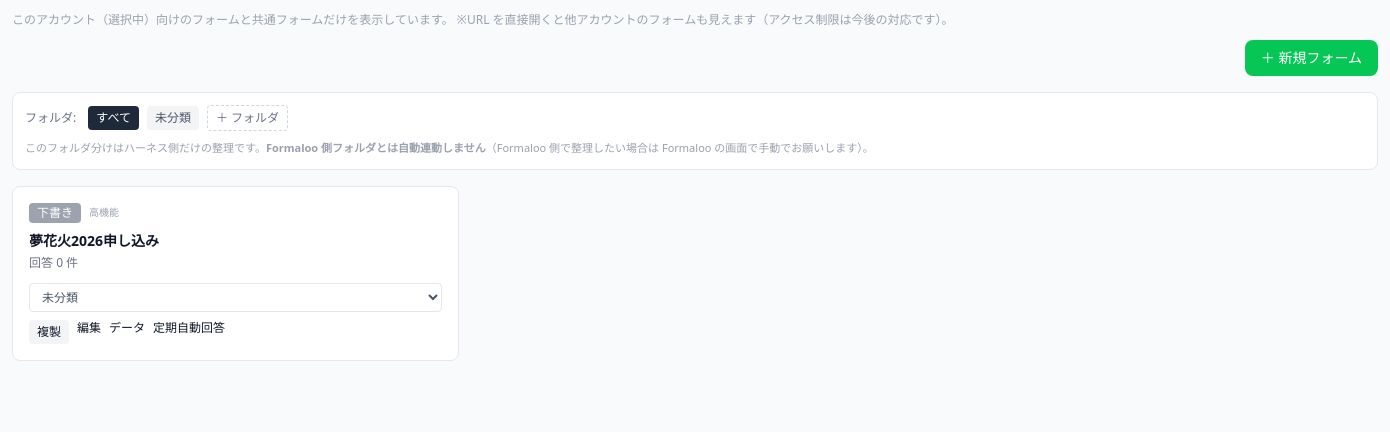
Test: フォーム一覧の複製操作 › D-3: 失敗時は日本語エラーを表示し、元カードと通常の編集操作を残す
Expected: the element with test id "form-card-source-a" is shown, [12,186,459,361]
Click the button with test id "duplicate-source-a" at (49, 332), box [29,320,69,344]
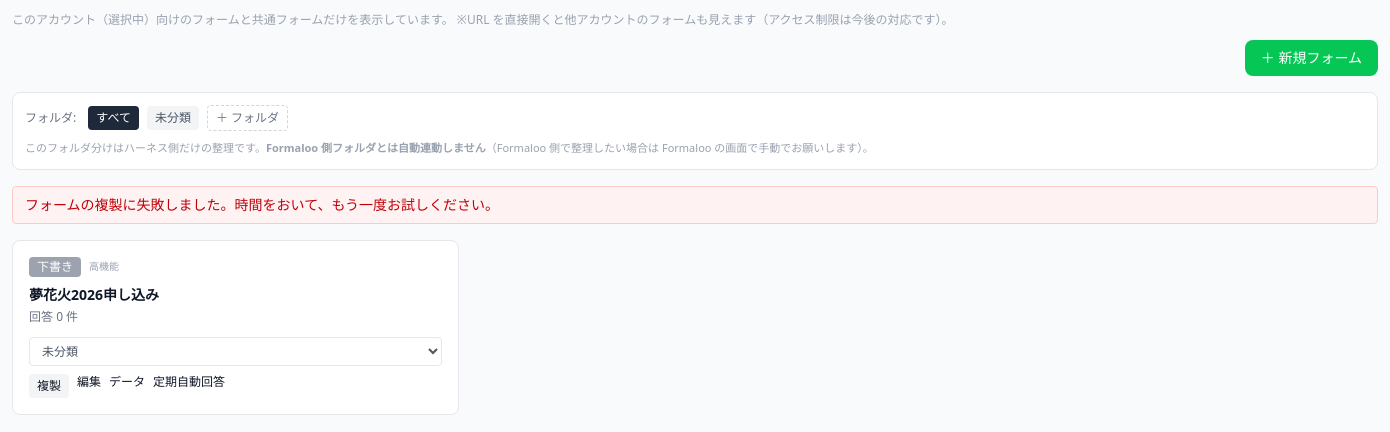
Expected: the element with test id "form-card-source-a" is shown, [12,240,459,415]
Result: the message shows "フォームの複製に失敗しました" at [25,195,499,214]
